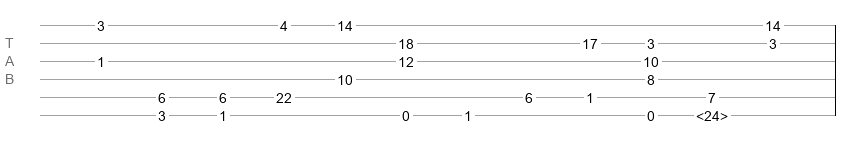0: (402, 108, 410, 118), (647, 108, 655, 118)
1: (97, 54, 105, 64), (219, 108, 227, 118), (464, 108, 472, 118), (586, 90, 594, 100)
10: (337, 72, 353, 82), (643, 54, 659, 64)
12: (398, 54, 414, 64)
14: (337, 18, 353, 28), (765, 18, 781, 28)
17: (582, 36, 598, 46)
18: (398, 36, 414, 46)
22: (276, 90, 292, 100)
3: (97, 18, 105, 28), (158, 108, 166, 118), (647, 36, 655, 46), (769, 36, 777, 46)
4: (280, 18, 288, 28)
6: (158, 90, 166, 100), (219, 90, 227, 100), (525, 90, 533, 100)
7: (708, 90, 716, 100)
8: (647, 72, 655, 82)
harmonic: (696, 108, 728, 118)
